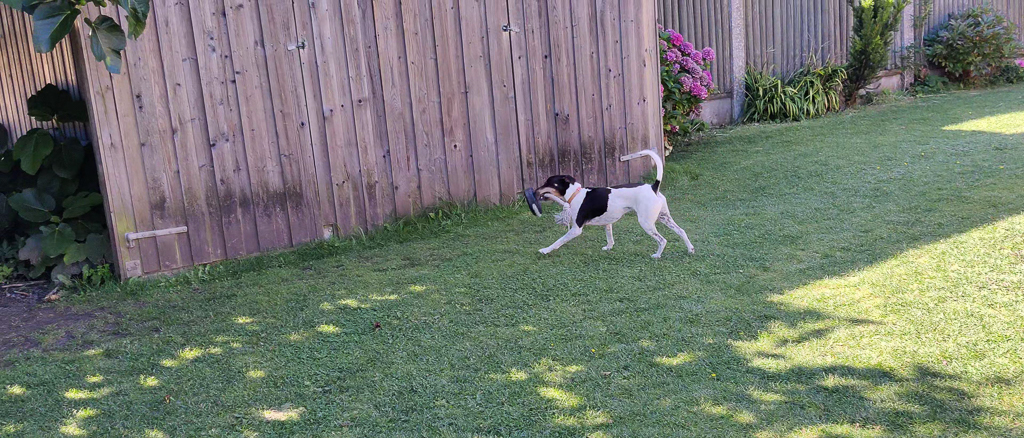Dog: (519, 142, 701, 274)
